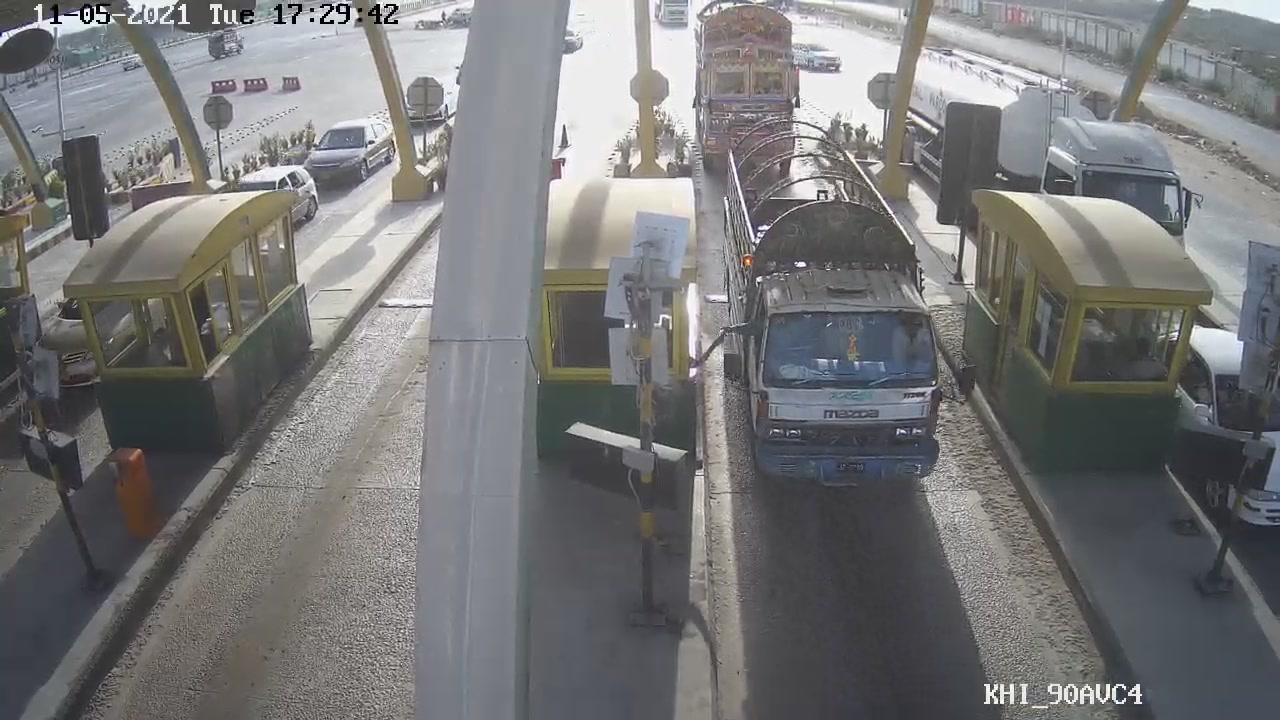F5: (716, 124, 952, 498)
